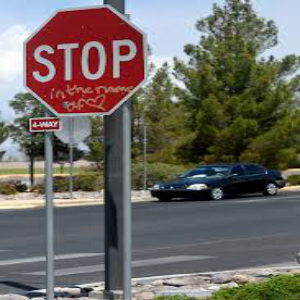STOP_SIGN: (23, 4, 148, 117)
